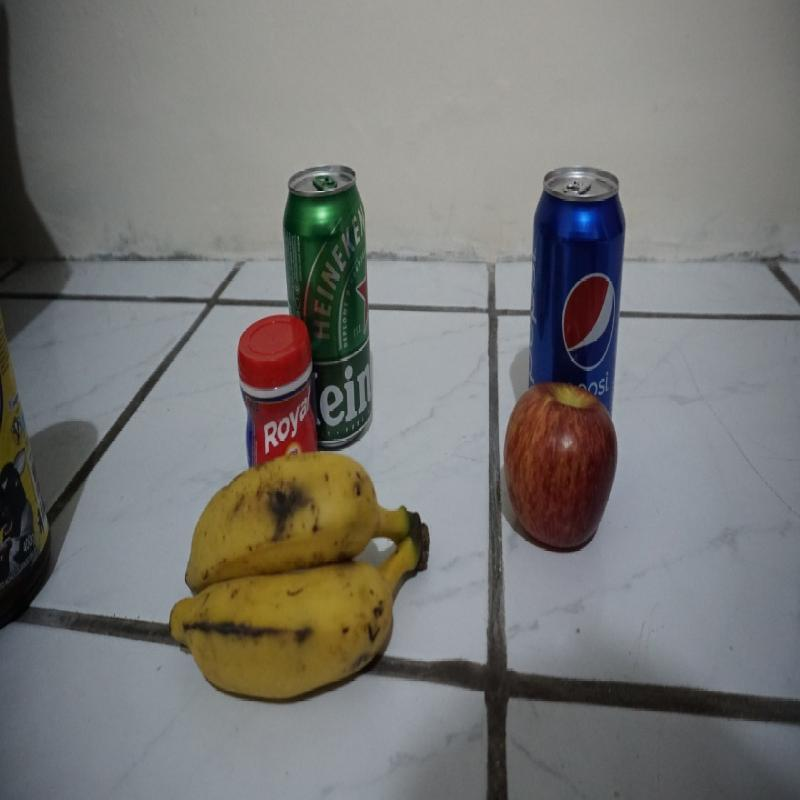Apple: (502, 381, 621, 553)
Banana: (168, 452, 431, 703)
Beer can: (282, 162, 376, 451)
Chocolate Powder: (1, 310, 54, 636)
Soda can: (526, 163, 626, 425)
Yeast: (236, 313, 323, 484)
